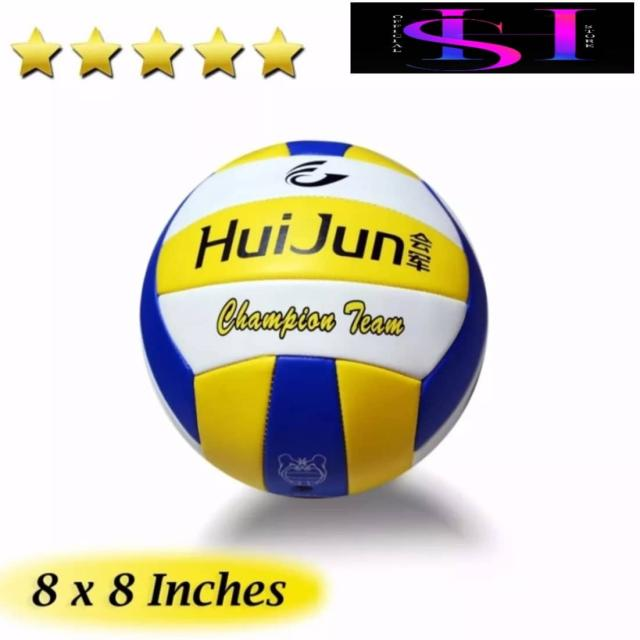Volleyball: (138, 138, 491, 502)
